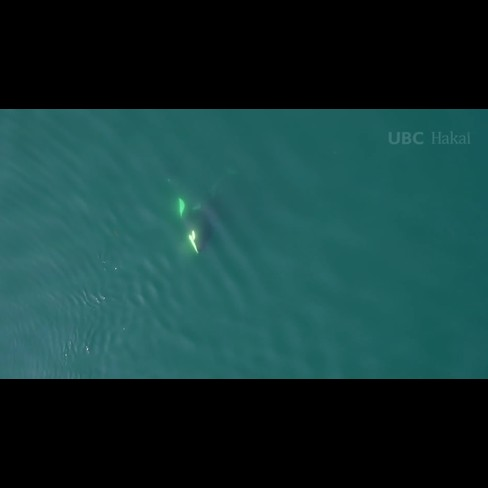orca: (159, 166, 222, 260)
